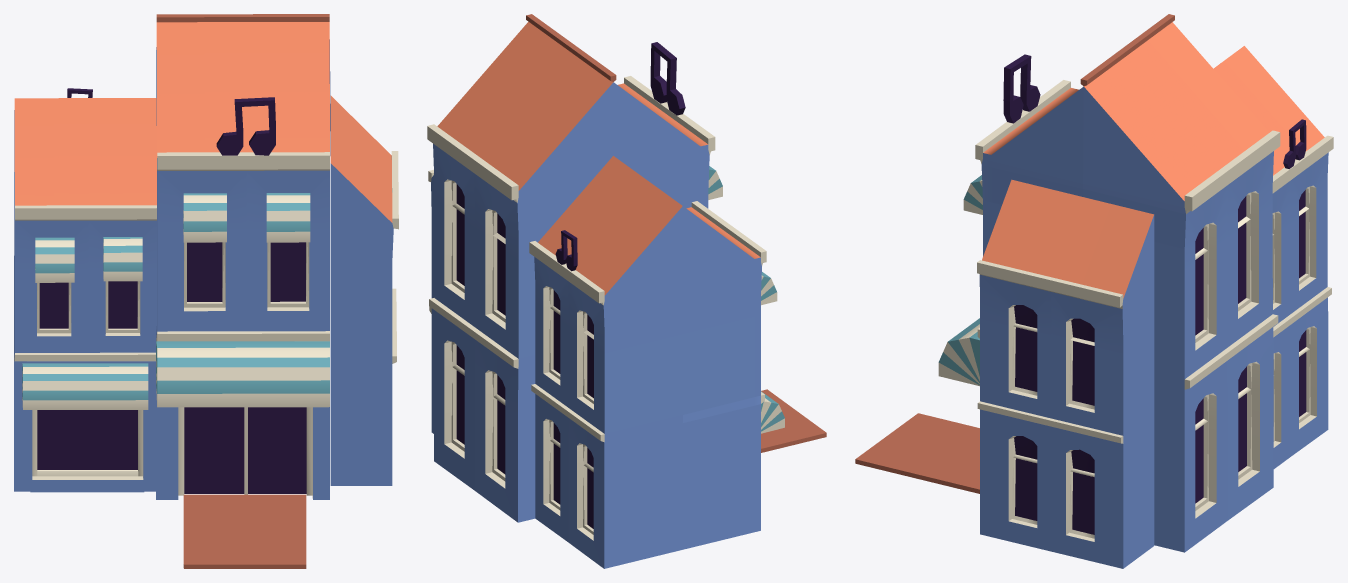
Rendered from M_ClubTile.fbx.
3 renders of one model, left to right at view 1: azimuth 30°, elevation 25°; view 2: azimuth 150°, elevation 25°; view 3: azimuth 270°, elevation 25°, orthographic. The views are drawn at different scales.
Parts seen in each view (by area): view 1: Club; view 2: Club; view 3: Club.
Boxes of the visible parts, x1,y1,x2,y2 form: Club: [14, 14, 398, 568]; Club: [427, 14, 826, 568]; Club: [855, 14, 1333, 568].
Bounding box in the file's own units: 1.34 × 1.51 × 1.45.
Materials: 1 (1 with a texture image).
